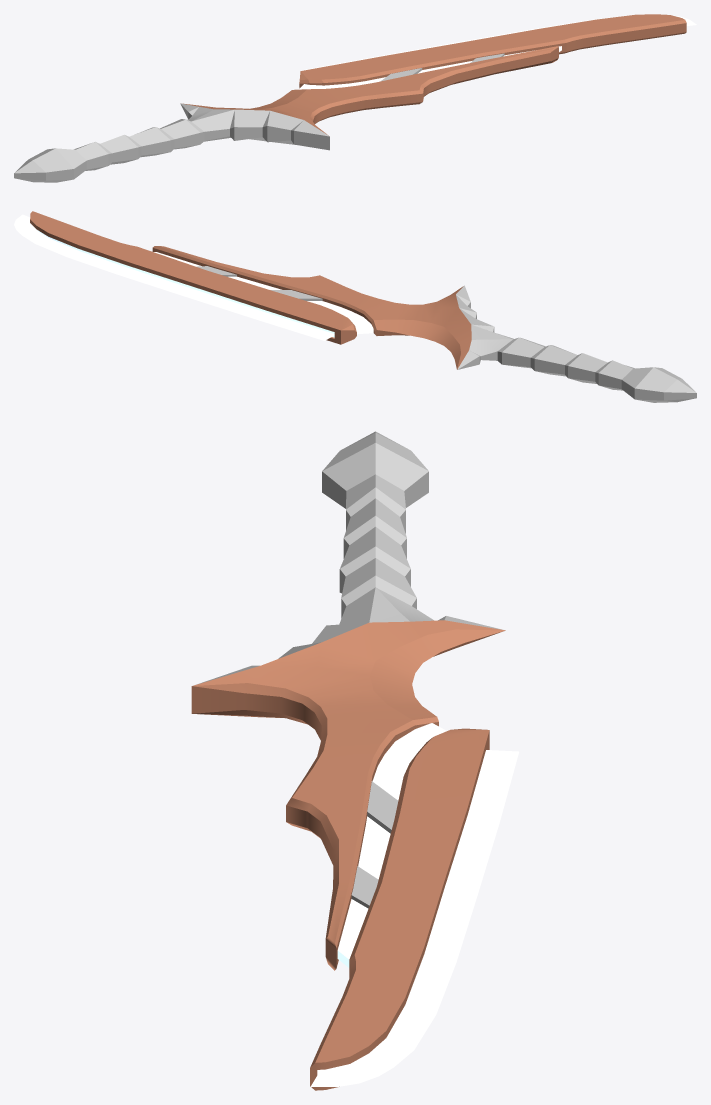
Rendered from weap1_dagger.fbx.
The picture shows the model from 3 angles, top to bottom: view 1: azimuth 30°, elevation 25°; view 2: azimuth 150°, elevation 25°; view 3: azimuth 270°, elevation 25°; orthographic projection. The views are drawn at different scales.
Parts seen in each view (by area): view 1: weap1_dagger; view 2: weap1_dagger; view 3: weap1_dagger.
Boxes of the visible parts, x1,y1,x2,y2 form: weap1_dagger: (14, 14, 696, 182); weap1_dagger: (14, 211, 696, 402); weap1_dagger: (191, 431, 518, 1090).
Bounding box in the file's own units: 73.85 × 3.65 × 15.7.
